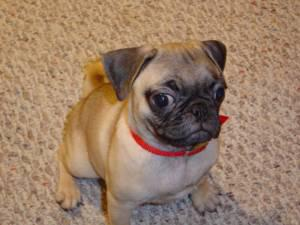dog-pug: (101, 39, 225, 145)
